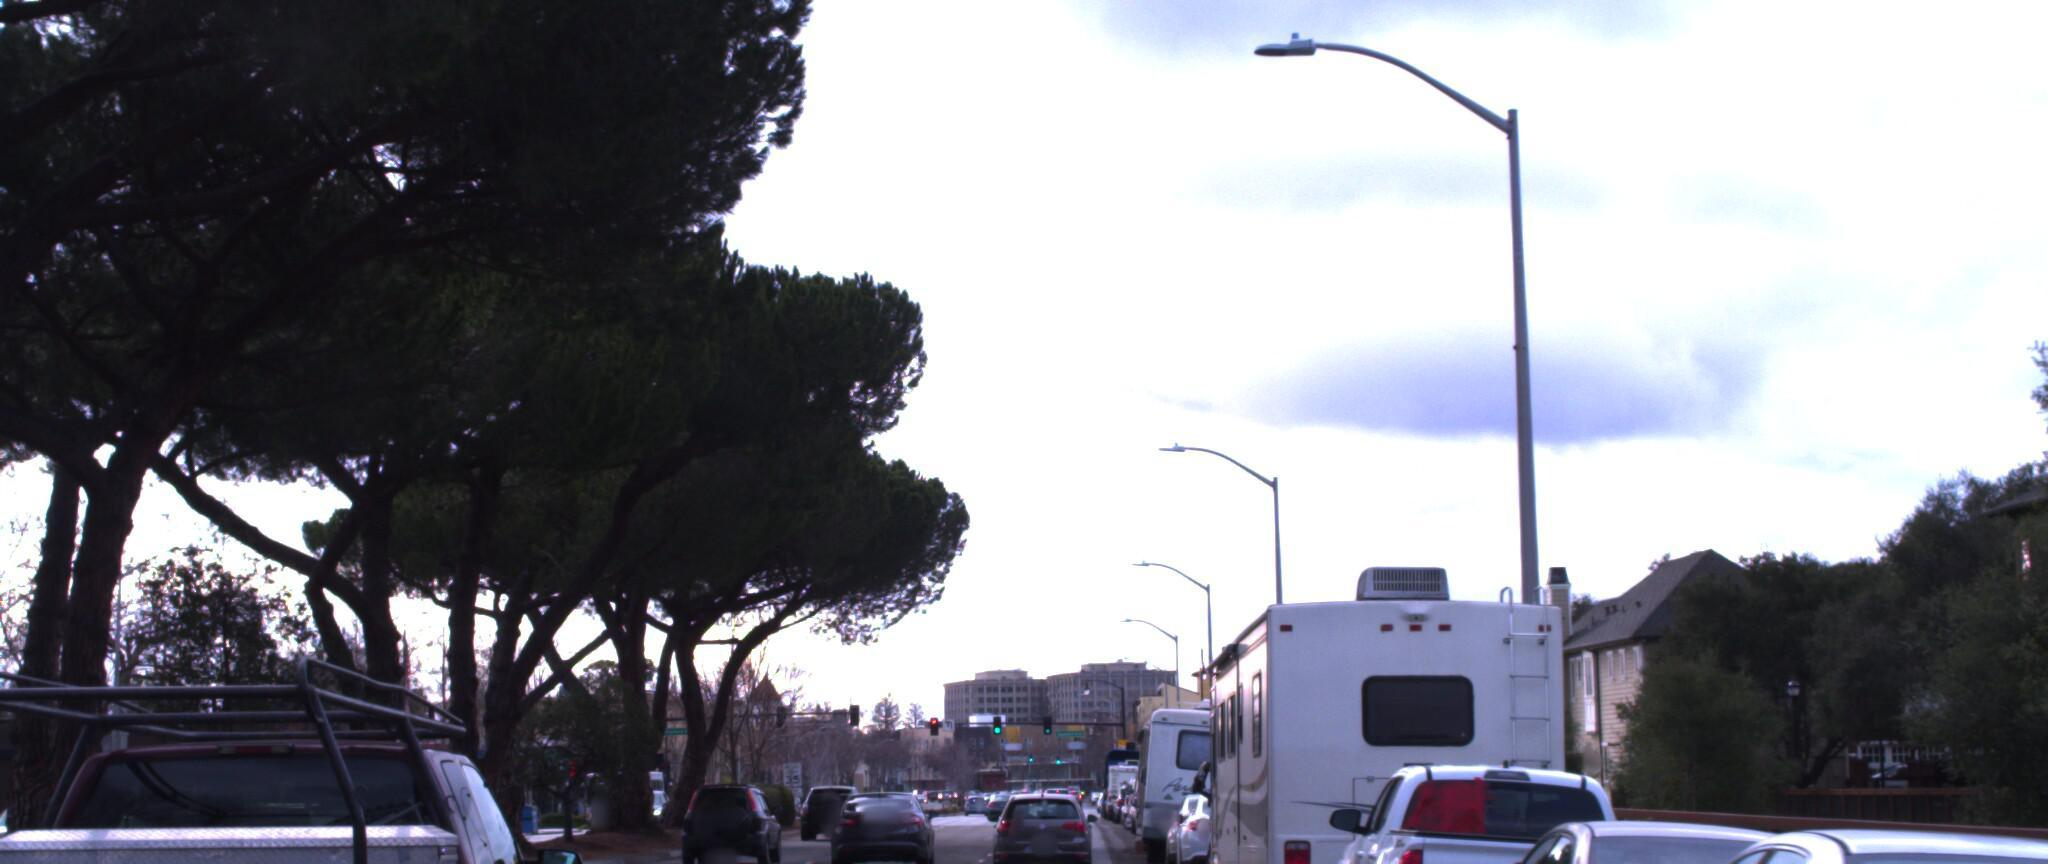car: (0, 626, 584, 864), (1320, 741, 1682, 864), (1546, 784, 2048, 864), (1432, 788, 1949, 864), (1772, 820, 2048, 864), (824, 773, 934, 864), (675, 767, 788, 852), (984, 780, 1092, 864)
other_vehicle: (1149, 687, 1294, 861)
truck: (1183, 572, 1580, 864)
